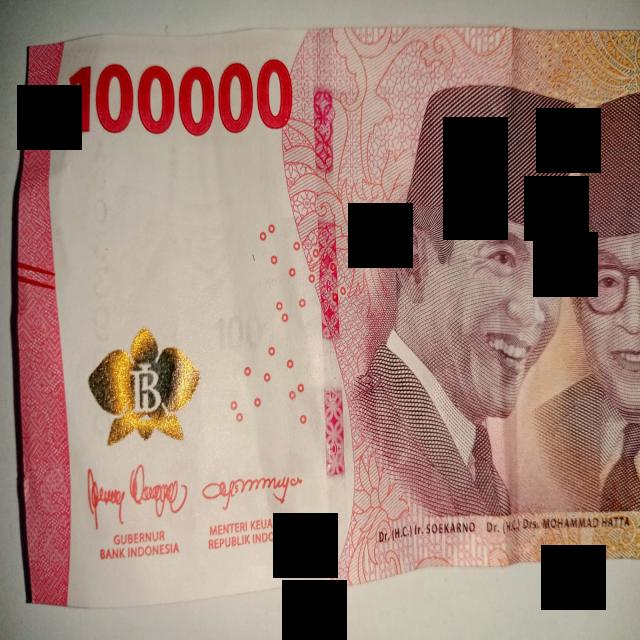seratusribu rupiah: (15, 28, 640, 607)
